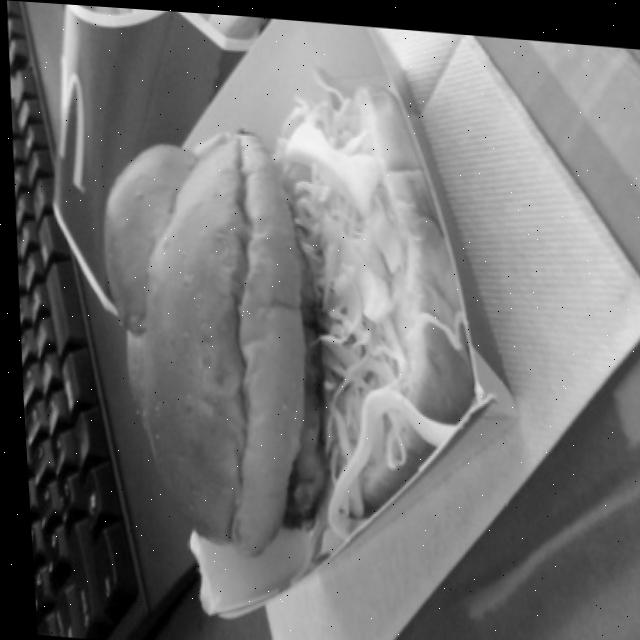汉堡快餐: (67, 34, 484, 551)
